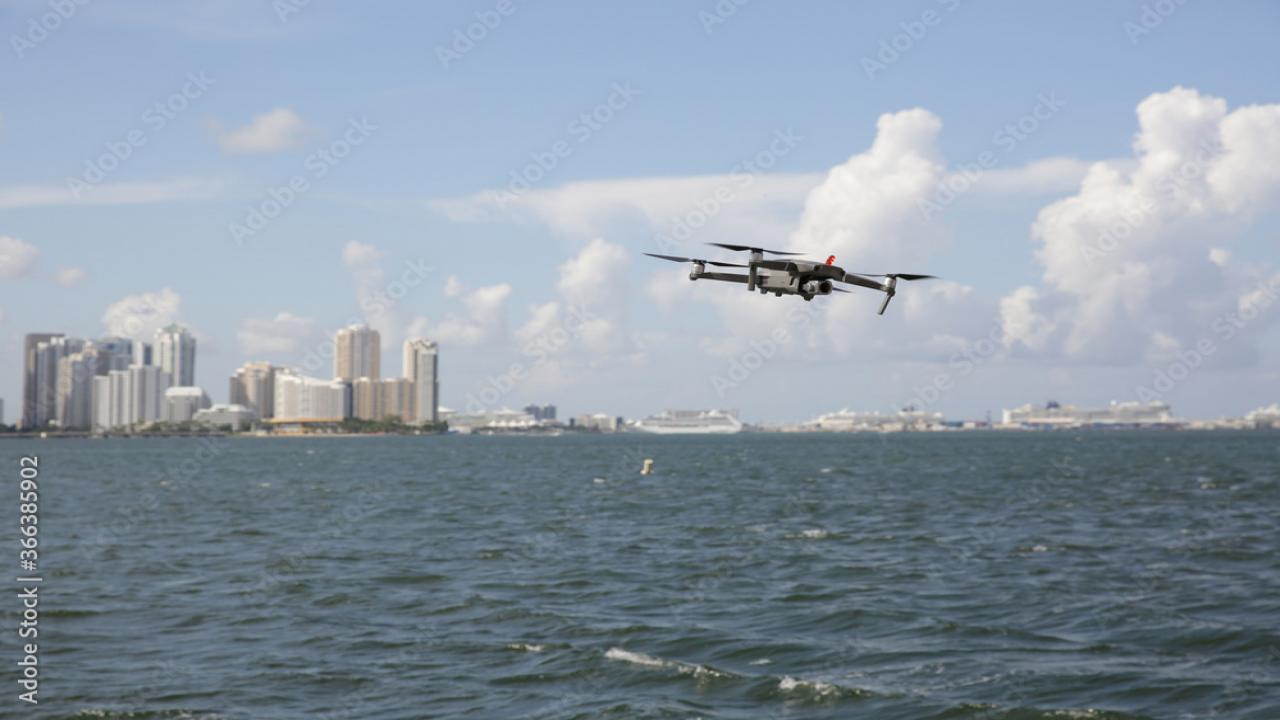Drone: (628, 223, 954, 335)
